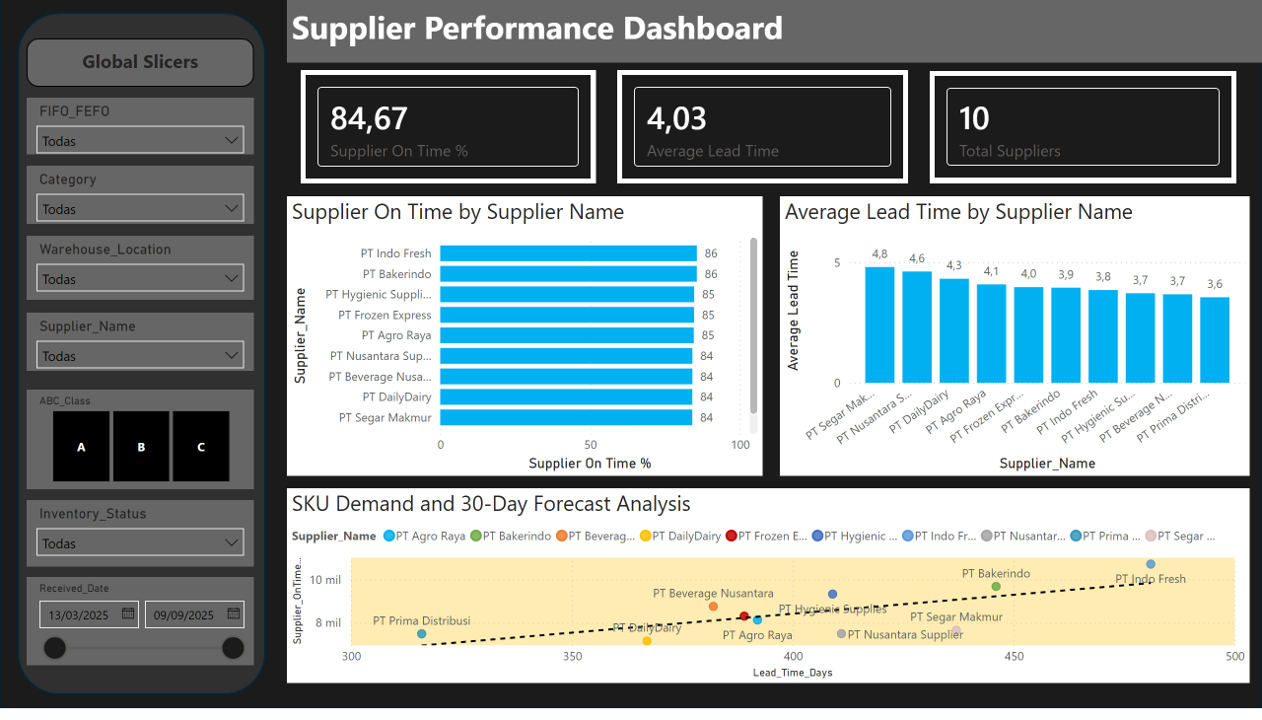

This screenshot's page, from the dashboard's own definition file:
{"tool":"powerbi","page":{"name":"SUPPLIER PERFORMANCE","canvas":[1280,720],"ordinal":3},"visuals":[{"type":"cardVisual","fields":{"Data":["Inventory.Supplier On Time %"]},"box":[305.3,70.6,299.5,115.2],"z":0},{"type":"cardVisual","fields":{"Data":["Inventory.Average Lead Time"]},"box":[626.4,70.6,295.2,115.2],"z":1000},{"type":"cardVisual","fields":{"Data":["Inventory.Total Suppliers"]},"box":[943.2,72,311,113.8],"z":2000},{"type":"barChart","title":"Supplier On Time  by Supplier Name","fields":{"Category":["Inventory.Supplier_Name"],"Y":["Inventory.Supplier On Time %"]},"box":[290.9,198.7,482.4,283.7],"z":3000},{"type":"columnChart","title":"Average Lead Time by Supplier Name","fields":{"Category":["Inventory.Supplier_Name"],"Y":["Inventory.Average Lead Time"]},"box":[790.6,198.7,476.6,283.7],"z":4000},{"type":"scatterChart","title":"SKU Demand and 30-Day Forecast Analysis","fields":{"X":["Sum(Inventory.Lead_Time_Days)"],"Y":["Sum(Inventory.Supplier_OnTime_Pct)"],"Series":["Inventory.Supplier_Name"]},"box":[290.9,495.4,976.3,197.3],"z":5000},{"type":"slicer","fields":{"Values":["Inventory.FIFO_FEFO"]},"box":[27.4,99.4,230.4,57.6],"z":6000},{"type":"slicer","fields":{"Values":["Inventory.Category"]},"box":[27.4,168.5,230.4,59],"z":7000},{"type":"slicer","fields":{"Values":["Inventory.Warehouse_Location"]},"box":[27.4,239,230.4,64.8],"z":8000},{"type":"slicer","fields":{"Values":["Inventory.Supplier_Name"]},"box":[27.4,316.8,230.4,59],"z":9000},{"type":"slicer","fields":{"Values":["Inventory.ABC_Class"]},"box":[27.4,394.6,230.4,100.8],"z":10000},{"type":"slicer","fields":{"Values":["Inventory.Inventory_Status"]},"box":[27.4,506.9,230.4,67.7],"z":11000},{"type":"slicer","fields":{"Values":["Inventory.Received_Date"]},"box":[27.4,584.6,230.4,89.3],"z":12000},{"type":"textbox","box":[27.4,38.9,230.4,49],"z":13000},{"type":"textbox","box":[290.9,0,989.3,63.4],"z":14000}]}

Visuals, with their boxes in screenshot pixels (x1, y1, x2, y2), scaled from the page's 1280x720 canvas onto the 1262x720 screenshot:
cardVisual - Inventory.Supplier On Time %: select_region(301, 71, 596, 186)
cardVisual - Inventory.Average Lead Time: select_region(618, 71, 909, 186)
cardVisual - Inventory.Total Suppliers: select_region(930, 72, 1237, 186)
"Supplier On Time  by Supplier Name" barChart: select_region(287, 199, 762, 482)
"Average Lead Time by Supplier Name" columnChart: select_region(779, 199, 1249, 482)
"SKU Demand and 30-Day Forecast Analysis" scatterChart: select_region(287, 495, 1249, 693)
slicer - Inventory.FIFO_FEFO: select_region(27, 99, 254, 157)
slicer - Inventory.Category: select_region(27, 168, 254, 228)
slicer - Inventory.Warehouse_Location: select_region(27, 239, 254, 304)
slicer - Inventory.Supplier_Name: select_region(27, 317, 254, 376)
slicer - Inventory.ABC_Class: select_region(27, 395, 254, 495)
slicer - Inventory.Inventory_Status: select_region(27, 507, 254, 575)
slicer - Inventory.Received_Date: select_region(27, 585, 254, 674)
textbox: select_region(27, 39, 254, 88)
textbox: select_region(287, 0, 1261, 63)
